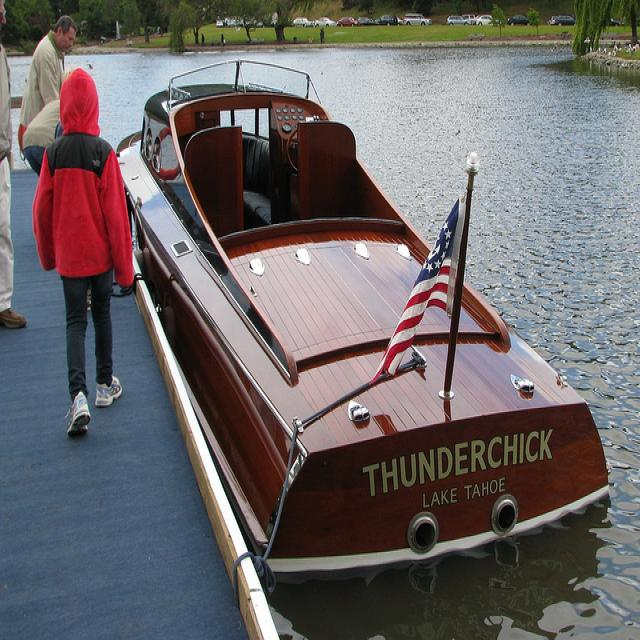Vehicle: (459, 8, 616, 27), (404, 15, 432, 27), (446, 15, 471, 26), (338, 16, 359, 28), (292, 17, 314, 28), (550, 16, 576, 25), (508, 15, 529, 26), (379, 16, 400, 26), (315, 16, 334, 27), (477, 15, 493, 26), (359, 17, 378, 26), (398, 17, 411, 25), (215, 19, 225, 27), (256, 22, 264, 28)
